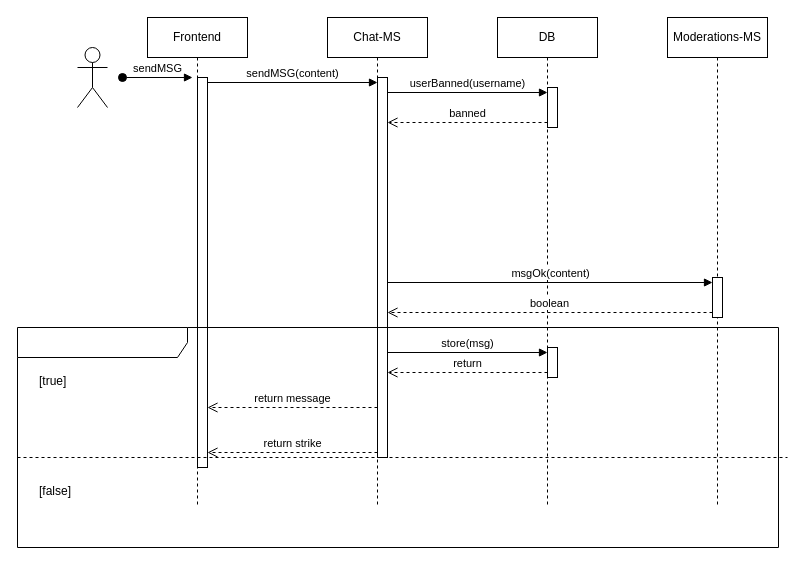
This 805x565 diagram has some shape labels left out. Each missing label, with the centre of its shape:
"Actor" belongs at point 92,77.
"msgOk" belongs at point 397,437.
